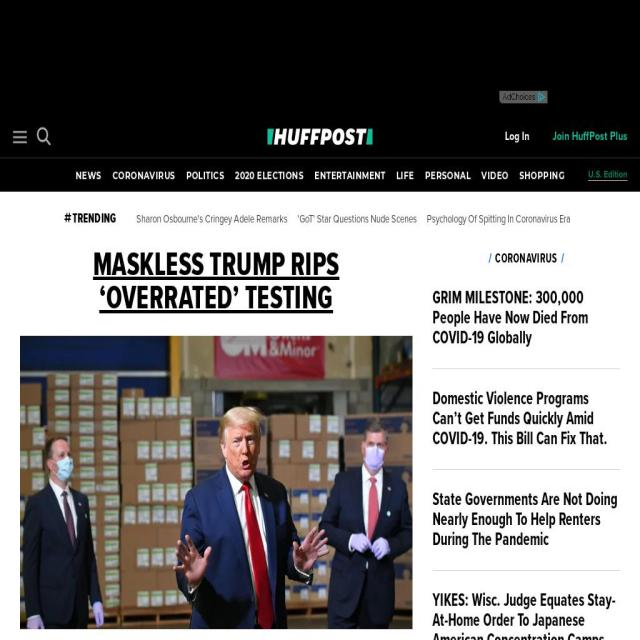button: (20, 336, 412, 629), (432, 288, 620, 348), (432, 389, 620, 449), (432, 490, 620, 550), (432, 591, 620, 640), (268, 127, 372, 146), (314, 168, 386, 182), (235, 168, 304, 182), (112, 168, 176, 182), (424, 168, 472, 182), (519, 168, 564, 182), (500, 91, 548, 103), (186, 168, 225, 182), (588, 170, 628, 181), (481, 168, 509, 182), (76, 168, 102, 182), (12, 126, 28, 146), (505, 131, 529, 142), (396, 168, 414, 182)
heading: (432, 288, 620, 348), (432, 389, 620, 449), (432, 490, 620, 550), (432, 591, 620, 640), (488, 248, 564, 268), (72, 212, 116, 225), (64, 212, 71, 222)
iframe: (92, 12, 548, 88)
image: (20, 336, 412, 629), (0, 0, 640, 116), (268, 127, 372, 146), (500, 91, 548, 103), (12, 126, 28, 146), (37, 126, 51, 146)
link: (93, 248, 340, 315), (136, 214, 288, 225), (427, 214, 571, 225), (298, 214, 418, 225), (552, 131, 628, 142), (283, 232, 357, 242)
